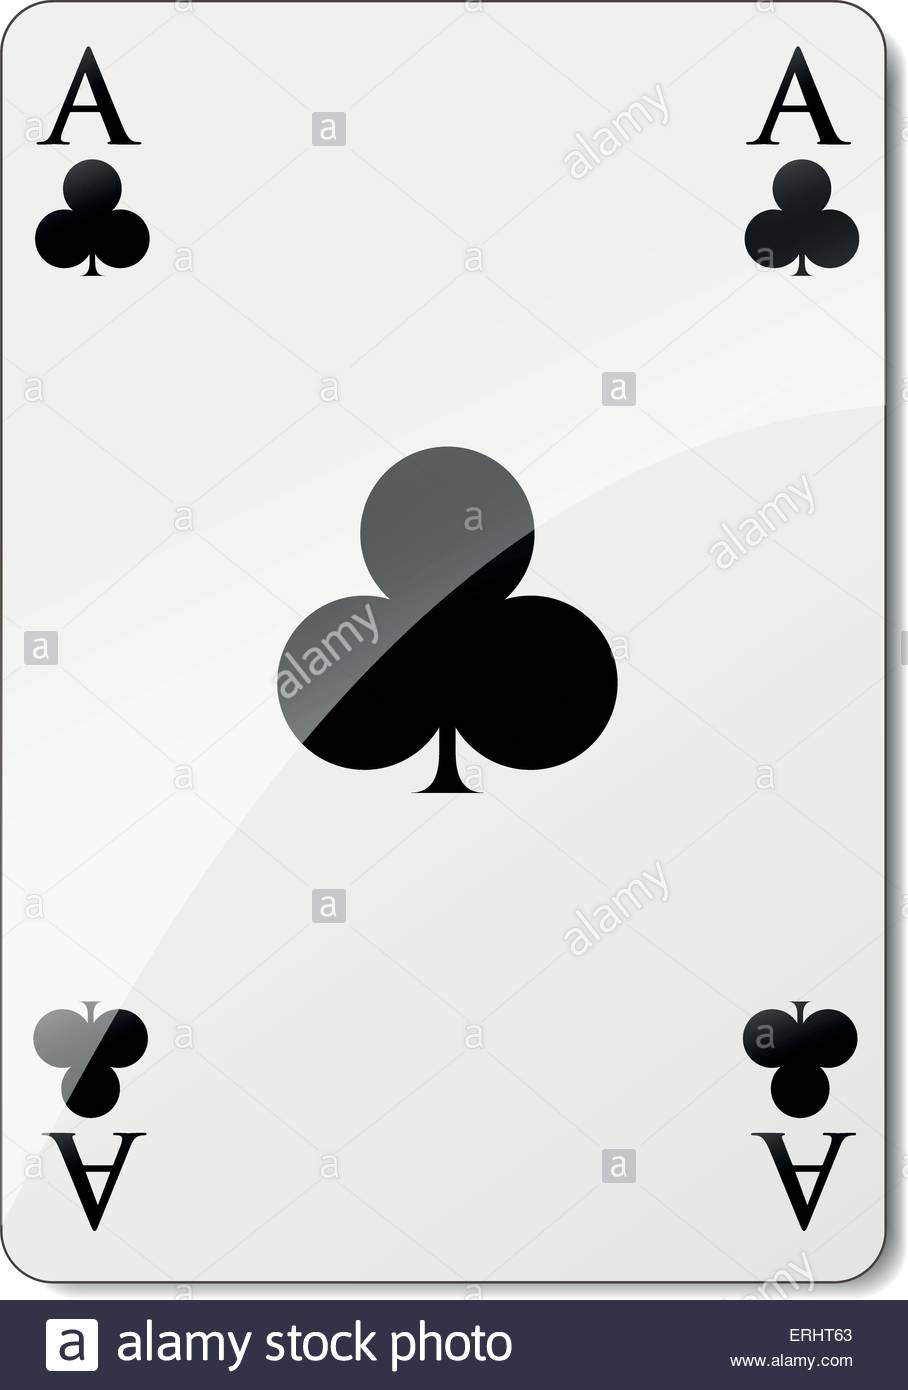ace of clubs: (3, 8, 899, 1278)
